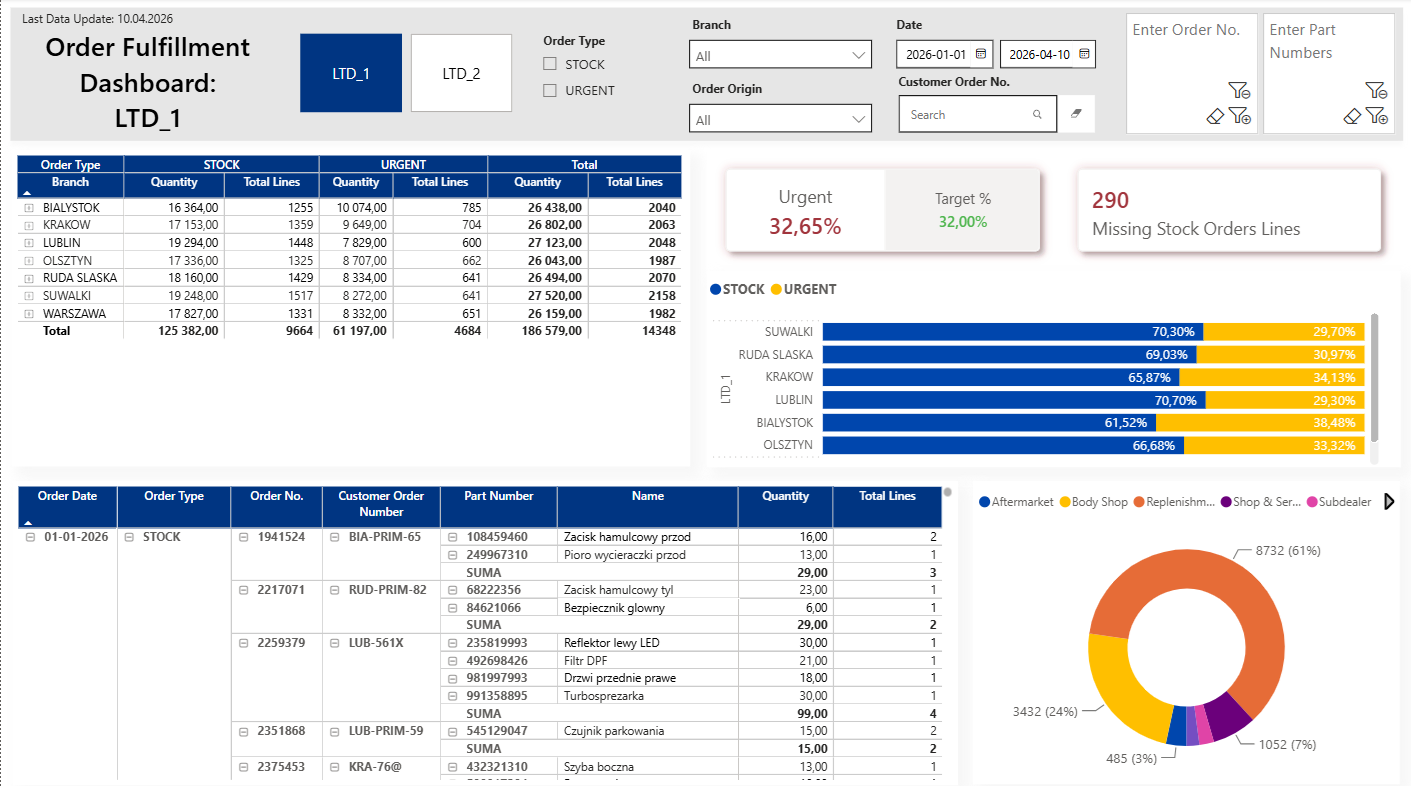

Layout of this report page (visuals, bound fields, positions):
{"tool":"powerbi","page":{"name":"ORDERS","canvas":[1280,720],"ordinal":0},"visuals":[{"type":"shape","box":[0,0,1280,138.1],"z":0},{"type":"pivotTable","fields":{"Columns":["CTC+OnR_2026.Ord. Type"],"Rows":["Dim_Branch.ISPE Name","CTC+OnR_2026.P.N.","CTC+OnR_2026.PN Desc"],"Values":["Sum(CTC+OnR_2026.Split quantity)","CountNonNull(CTC+OnR_2026.Split quantity)"]},"box":[9.6,138.1,614.8,287],"z":1000},{"type":"cardVisual","fields":{"Data":["_Measures.Urgent %"]},"box":[640,138.1,319.4,109.3],"z":2000},{"type":"massFilter2E7137AC1174403C8CF3456F3EB0B7D7","fields":{"field":["Fct_Orders_All.P.N."]},"box":[1144.1,13.7,120,110],"z":3000},{"type":"cardVisual","title":"Brakujące linie stock do targetu","fields":{"Data":["_Measures.Missing Stock Orders"]},"box":[959.4,138.1,309.8,109.3],"z":4000},{"type":"hundredPercentStackedBarChart","fields":{"Category":["Dim_Branch.Company","Dim_Branch.ISPE Name"],"Series":["CTC+OnR_2026.Ord. Type"],"Y":["CountNonNull(CTC+OnR_2026.Ord. Type)"]},"box":[640,247.4,629.2,177.7],"z":5000},{"type":"pivotTable","fields":{"Rows":["CTC+OnR_2026.Order date","Fct_CTC+OnR_2026.Ord. Type","CTC+OnR_2026.Order Number","CTC+OnR_2026.Customer order number","CTC+OnR_2026.P.N.","CTC+OnR_2026.PN Desc"],"Values":["Sum(CTC+OnR_2026.Split quantity)1","CountNonNull(CTC+OnR_2026.Split quantity)"]},"box":[10.5,438.4,857,275.6],"z":6000},{"type":"donutChart","fields":{"Series":["Fct_Orders_All.Order Origin"],"Y":["Divide(_Measures.Total Order Lines, ScopedEval(_Measures.Total Order Lines, []))"]},"box":[881.4,438,387.2,274.8],"z":7000},{"type":"card","fields":{"Values":["CTC+OnR_2026.Dynamic Title"]},"box":[9.6,7.2,246.2,123.1],"z":8000},{"type":"advancedSlicerVisual","fields":{"Values":["Dim_Branch.Company"]},"box":[266.6,24.7,202.2,88],"z":9000},{"type":"slicer","fields":{"Values":["CTC+OnR_2026.Ord. Type"]},"box":[478.8,25.6,127,86.1],"z":10000},{"type":"card","fields":{"Values":["CTC+OnR_2026.Last Update Date"]},"box":[10,7.3,155.1,26.3],"z":11000},{"type":"slicer","fields":{"Values":["Dim_Date.Date"]},"box":[799.1,10.9,206.8,58.9],"z":12000},{"type":"slicer","fields":{"Values":["Dim_Branch.ISPE Name"]},"box":[614,10.5,186,59.3],"z":13000},{"type":"slicer","fields":{"Values":["Fct_Orders_All.Order Origin"]},"box":[614,68.6,186,60.5],"z":14000},{"type":"massFilter2E7137AC1174403C8CF3456F3EB0B7D7","fields":{"field":["Fct_Orders_All.Order Number"]},"box":[1020.2,13.7,120,110],"z":15000},{"type":"textFilter25A4896A83E0487089E2B90C9AE57C8A","title":"Customer Order No.","fields":{"field":["Fct_Orders_All.Customer order number"]},"box":[808.6,68,187.7,61.7],"z":16000}]}

Visuals, with their boxes in screenshot pixels (x1, y1, x2, y2), scaled from the page's 1280x720 canvas onto the 1411x786 screenshot:
shape: box(0, 0, 1410, 151)
pivotTable - CTC+OnR_2026.Ord. Type x Dim_Branch.ISPE Name: box(11, 151, 688, 464)
cardVisual - _Measures.Urgent %: box(706, 151, 1058, 270)
massFilter2E7137AC1174403C8CF3456F3EB0B7D7 - Fct_Orders_All.P.N.: box(1261, 15, 1393, 135)
"Brakujące linie stock do targetu" cardVisual: box(1058, 151, 1399, 270)
hundredPercentStackedBarChart - Dim_Branch.Company x Dim_Branch.ISPE Name: box(706, 270, 1399, 464)
pivotTable - CTC+OnR_2026.Order date x Fct_CTC+OnR_2026.Ord. Type: box(12, 479, 956, 779)
donutChart - Fct_Orders_All.Order Origin x Divide(_Measures.Total Order Lines, ScopedEval(_Measures.Total Order Lines, [])): box(972, 478, 1398, 778)
card - CTC+OnR_2026.Dynamic Title: box(11, 8, 282, 142)
advancedSlicerVisual - Dim_Branch.Company: box(294, 27, 517, 123)
slicer - CTC+OnR_2026.Ord. Type: box(528, 28, 668, 122)
card - CTC+OnR_2026.Last Update Date: box(11, 8, 182, 37)
slicer - Dim_Date.Date: box(881, 12, 1109, 76)
slicer - Dim_Branch.ISPE Name: box(677, 11, 882, 76)
slicer - Fct_Orders_All.Order Origin: box(677, 75, 882, 141)
massFilter2E7137AC1174403C8CF3456F3EB0B7D7 - Fct_Orders_All.Order Number: box(1125, 15, 1257, 135)
"Customer Order No." textFilter25A4896A83E0487089E2B90C9AE57C8A: box(891, 74, 1098, 142)
